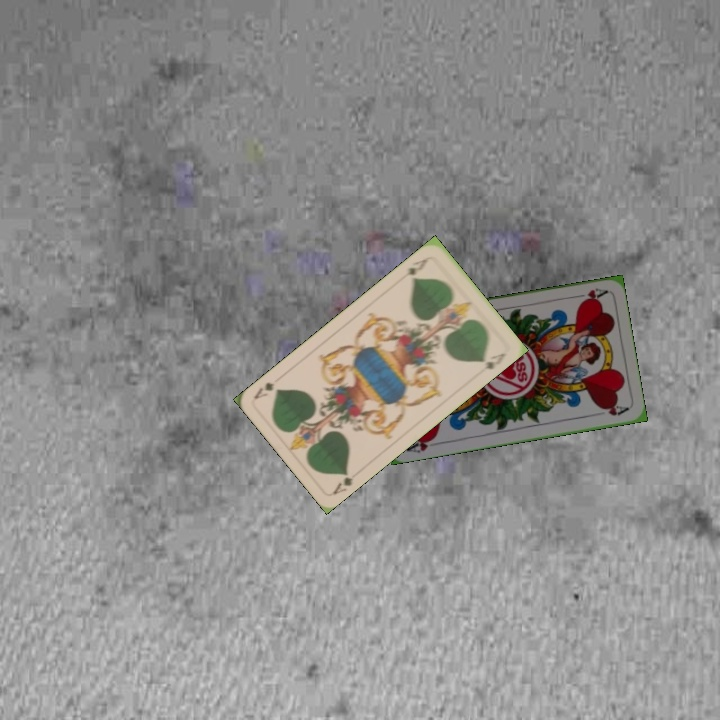GA: (397, 253, 432, 282), (329, 467, 355, 497)
HA: (403, 432, 444, 456), (569, 284, 609, 305)
